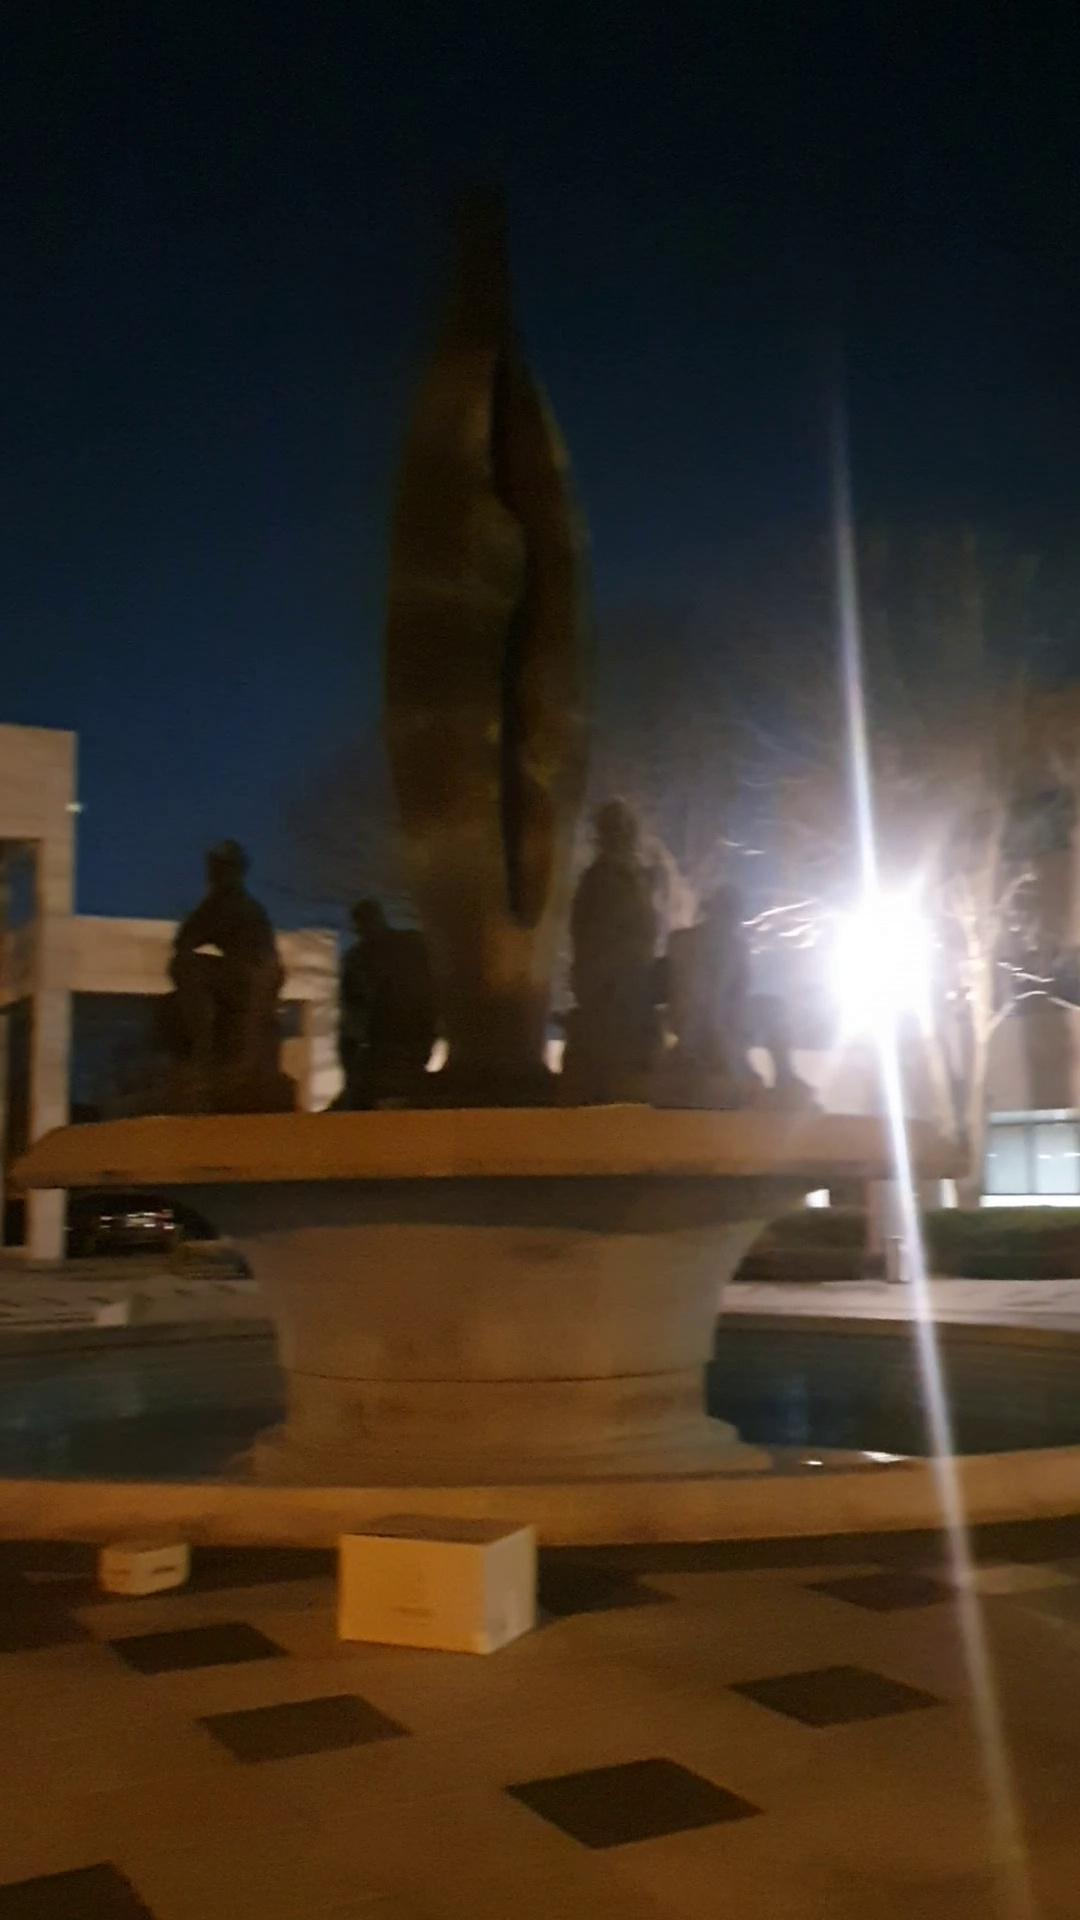Box: (320, 1498, 541, 1663), (98, 1524, 193, 1597)
